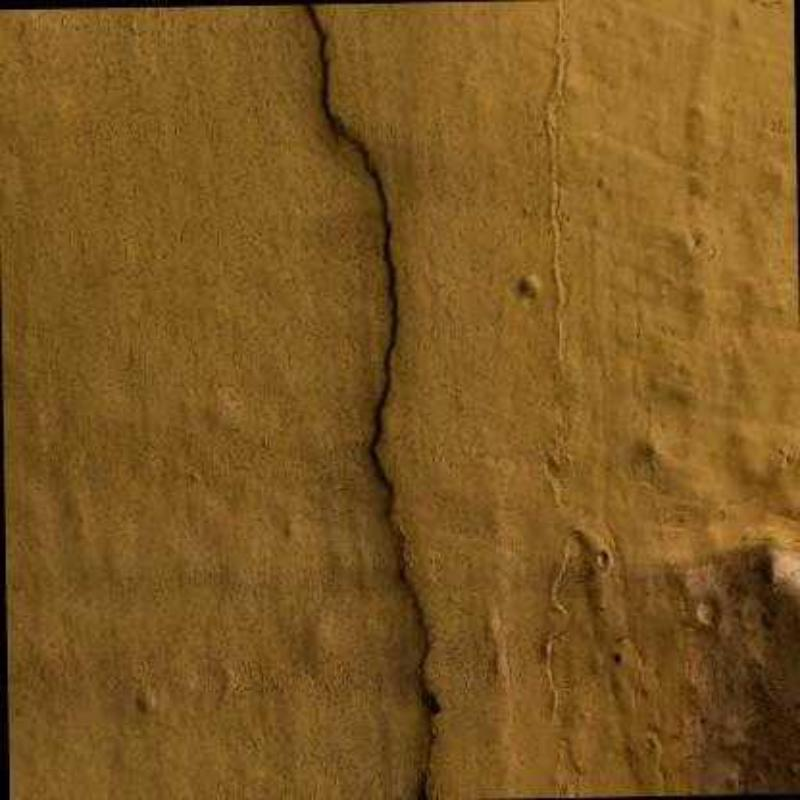crack: (300, 1, 435, 800)
